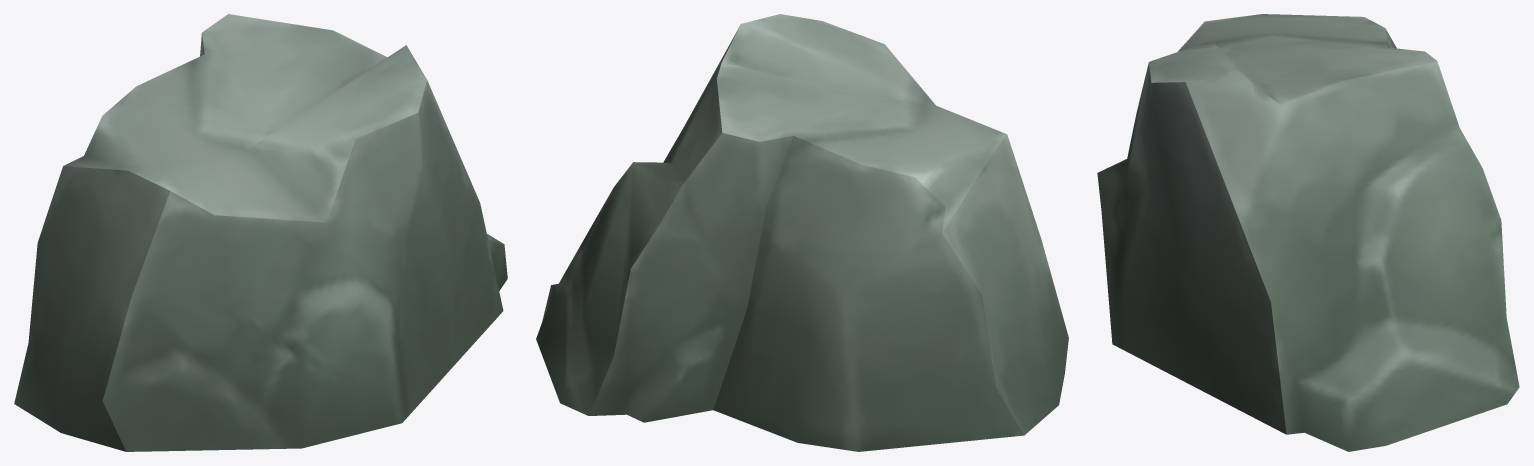
Rendered from field_rocks_ore_001c.fbx.
3 renders of one model, left to right at view 1: azimuth 30°, elevation 25°; view 2: azimuth 150°, elevation 25°; view 3: azimuth 270°, elevation 25°, orthographic. The views are drawn at different scales.
Visible parts, largest first — view 1: field_rocks_ore_001c; view 2: field_rocks_ore_001c; view 3: field_rocks_ore_001c.
Part boxes in pixels (box(x1,y1,x2,y2)): field_rocks_ore_001c: box(14, 14, 507, 451); field_rocks_ore_001c: box(536, 14, 1068, 451); field_rocks_ore_001c: box(1097, 14, 1519, 451).
Bounding box in the file's own units: 102 × 60.61 × 76.95.
